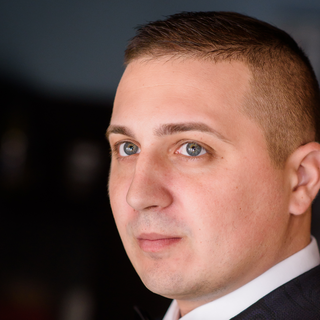eye: (168, 138, 217, 163), (113, 138, 148, 163)
